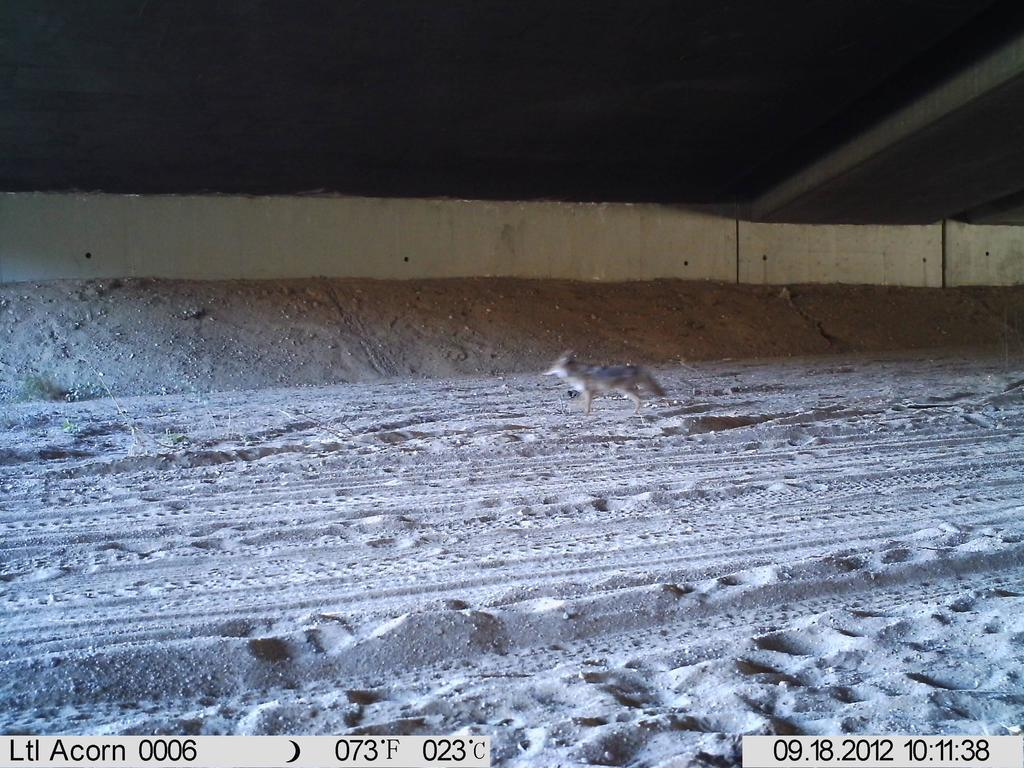coyote: (543, 343, 669, 421)
